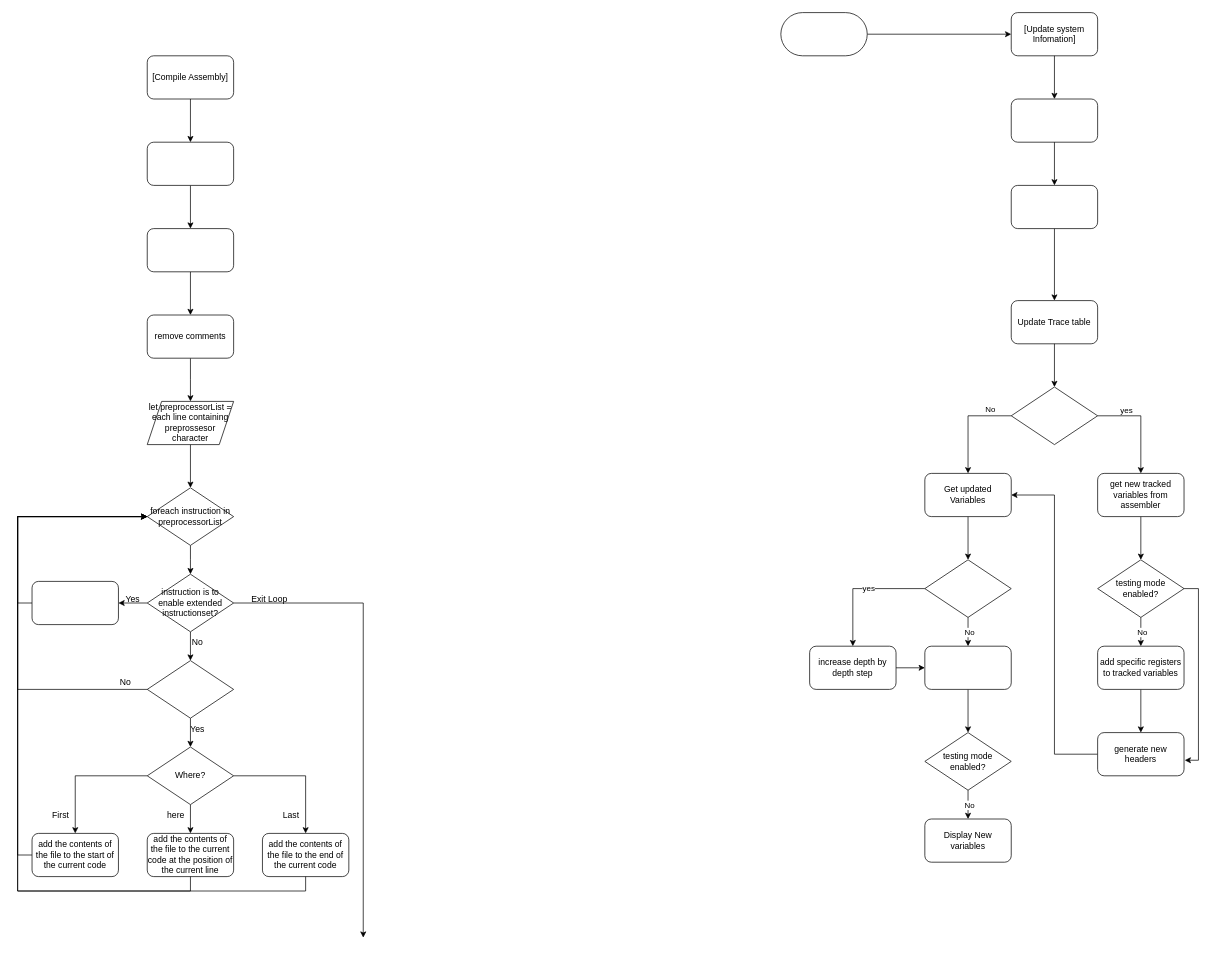
This 1217x956 diagram has some shape labels left out. Each missing label, with the centre of its shape:
[preprocess assembly]: [190,250]
Add new variables to table: [967,667]
enable extended instructionset: [74,603]
instruction is to include another file?: [190,689]
maximum depth reached?: [967,588]
program start: [823,34]
split by lines and remove empty lines: [190,163]
tracked Variables changed?: [1054,415]
update Cpu Info: [1054,120]
Update Memory Table: [1054,207]
